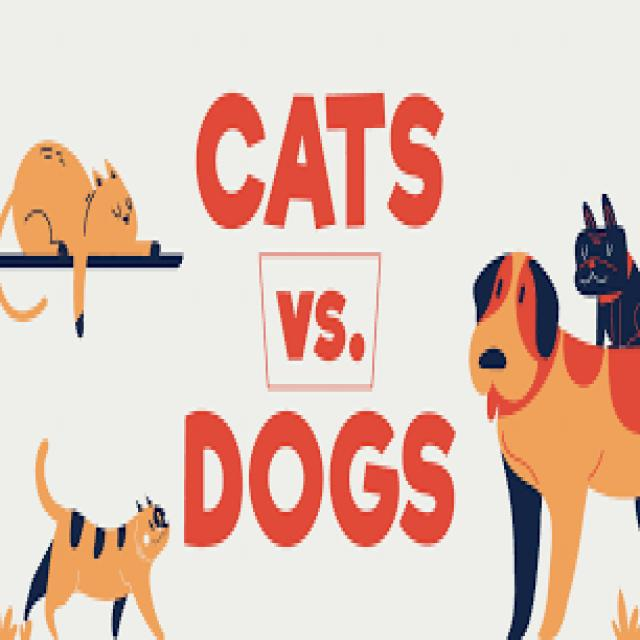cat: (2, 130, 164, 334), (17, 434, 169, 640)
dog: (470, 253, 640, 640), (572, 188, 640, 350)
